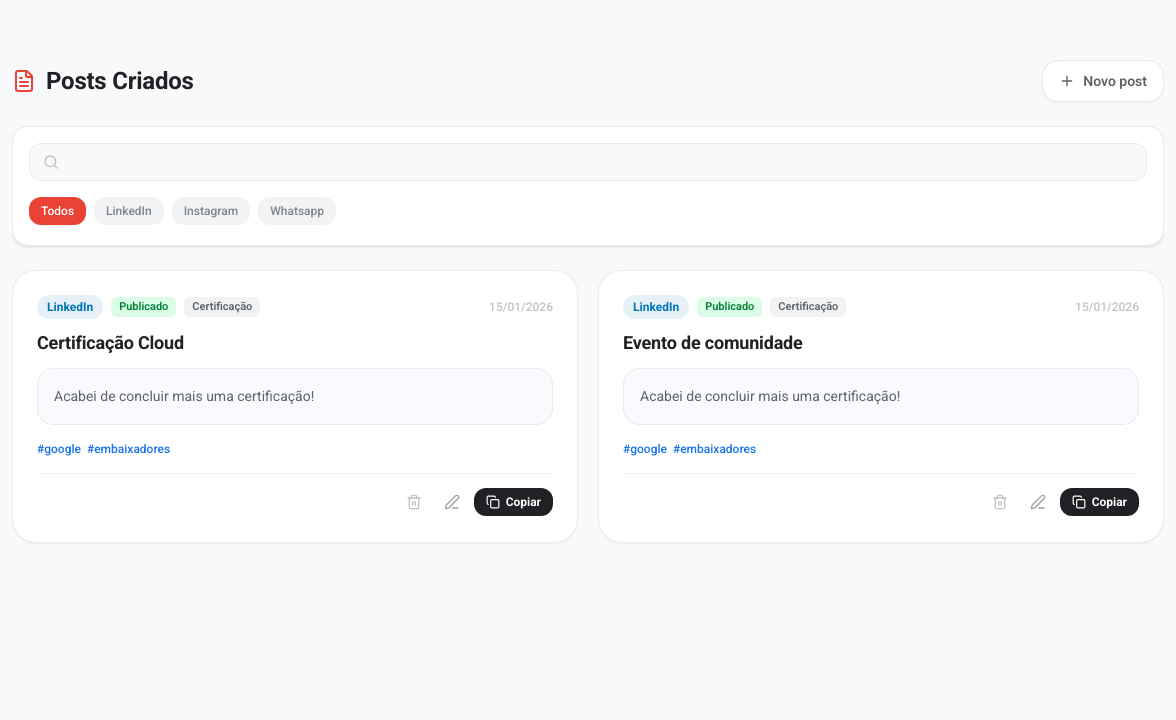
Test case: PostsModule › filters posts by search query across title and content
Type "cloud" into the field at (588, 162), box [29, 143, 1147, 181]
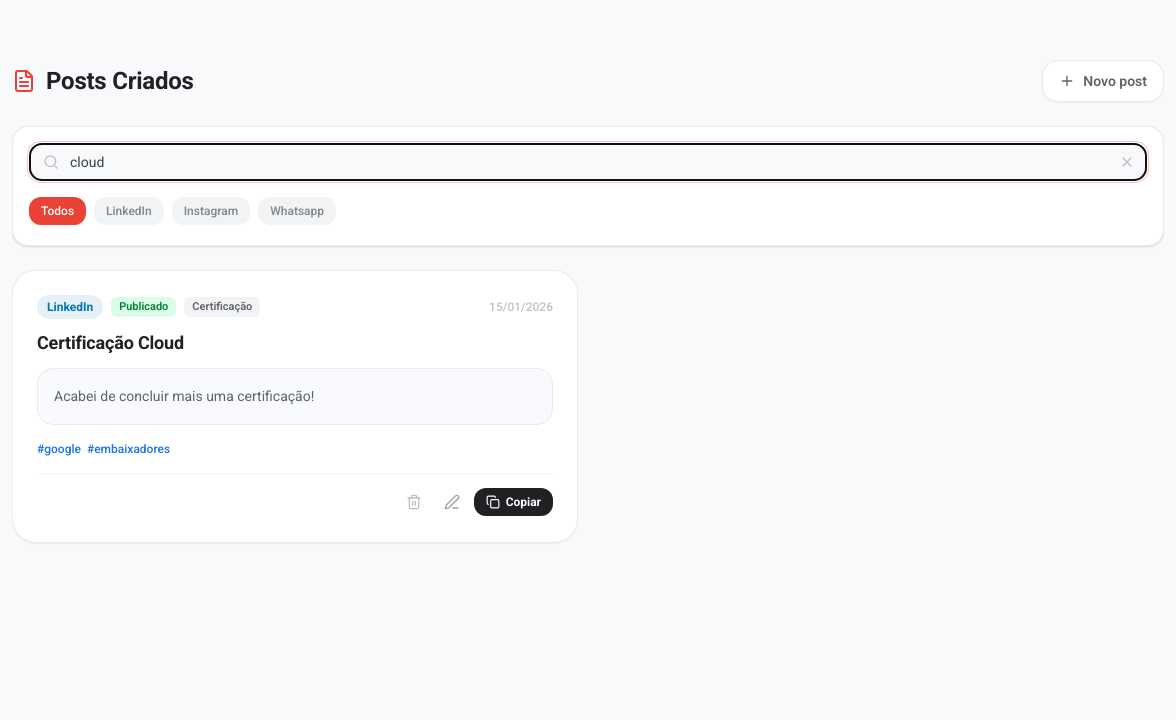
Expected: the button "Certificação Cloud" is shown, [37, 331, 184, 356]
Expected: the button "Evento de comunidade" is gone
